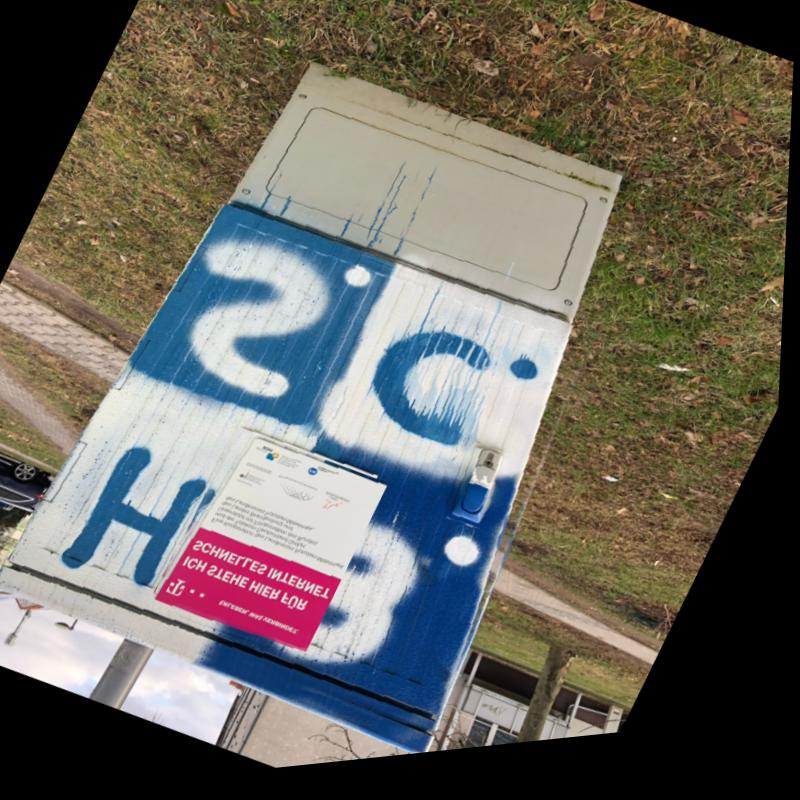NT-Gehause: (5, 86, 624, 744)
Steaker: (157, 442, 392, 660)
